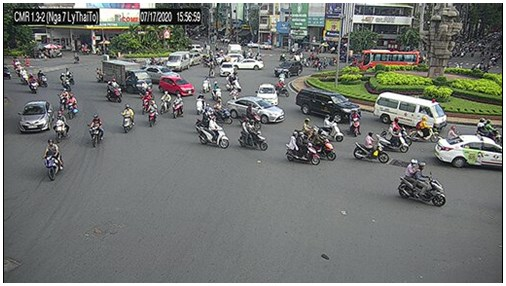xe_buyt: (358, 49, 420, 69)
xe_hoi: (101, 60, 153, 92), (227, 98, 284, 125), (19, 100, 53, 132), (159, 75, 194, 95), (143, 65, 179, 81), (257, 82, 277, 105), (274, 61, 302, 77), (233, 58, 264, 71), (221, 62, 233, 76), (189, 52, 200, 66)
xe_khach: (168, 51, 189, 72)
xe_may: (397, 159, 446, 207), (354, 131, 388, 163), (287, 133, 319, 166), (198, 115, 229, 148), (377, 123, 409, 154), (239, 116, 267, 151), (309, 130, 337, 161), (293, 118, 324, 145), (409, 116, 438, 143), (45, 139, 63, 182), (384, 118, 412, 145), (319, 114, 344, 143), (476, 117, 502, 143), (195, 108, 221, 133), (89, 113, 105, 148), (213, 98, 234, 124), (54, 111, 70, 142), (106, 79, 123, 103), (122, 103, 135, 134), (140, 91, 153, 115), (67, 92, 78, 120), (148, 100, 159, 128), (224, 75, 241, 93), (351, 109, 362, 136), (160, 91, 171, 115), (277, 78, 290, 98), (173, 94, 183, 119), (60, 73, 72, 93), (211, 80, 222, 101), (28, 72, 38, 93), (59, 88, 68, 111), (196, 92, 205, 115), (19, 67, 30, 85), (13, 58, 23, 77), (38, 69, 47, 88), (66, 66, 75, 85), (316, 58, 325, 71), (203, 77, 209, 92)
